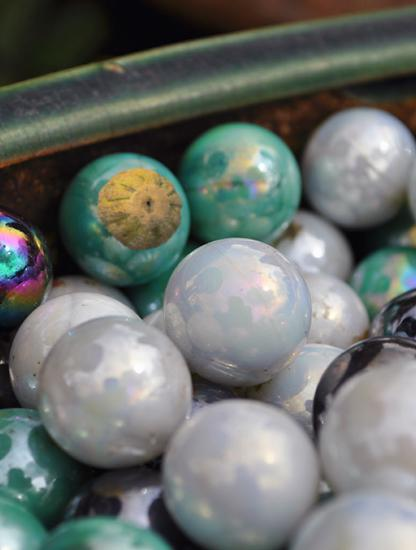Cantaloupe: (97, 164, 185, 252)
